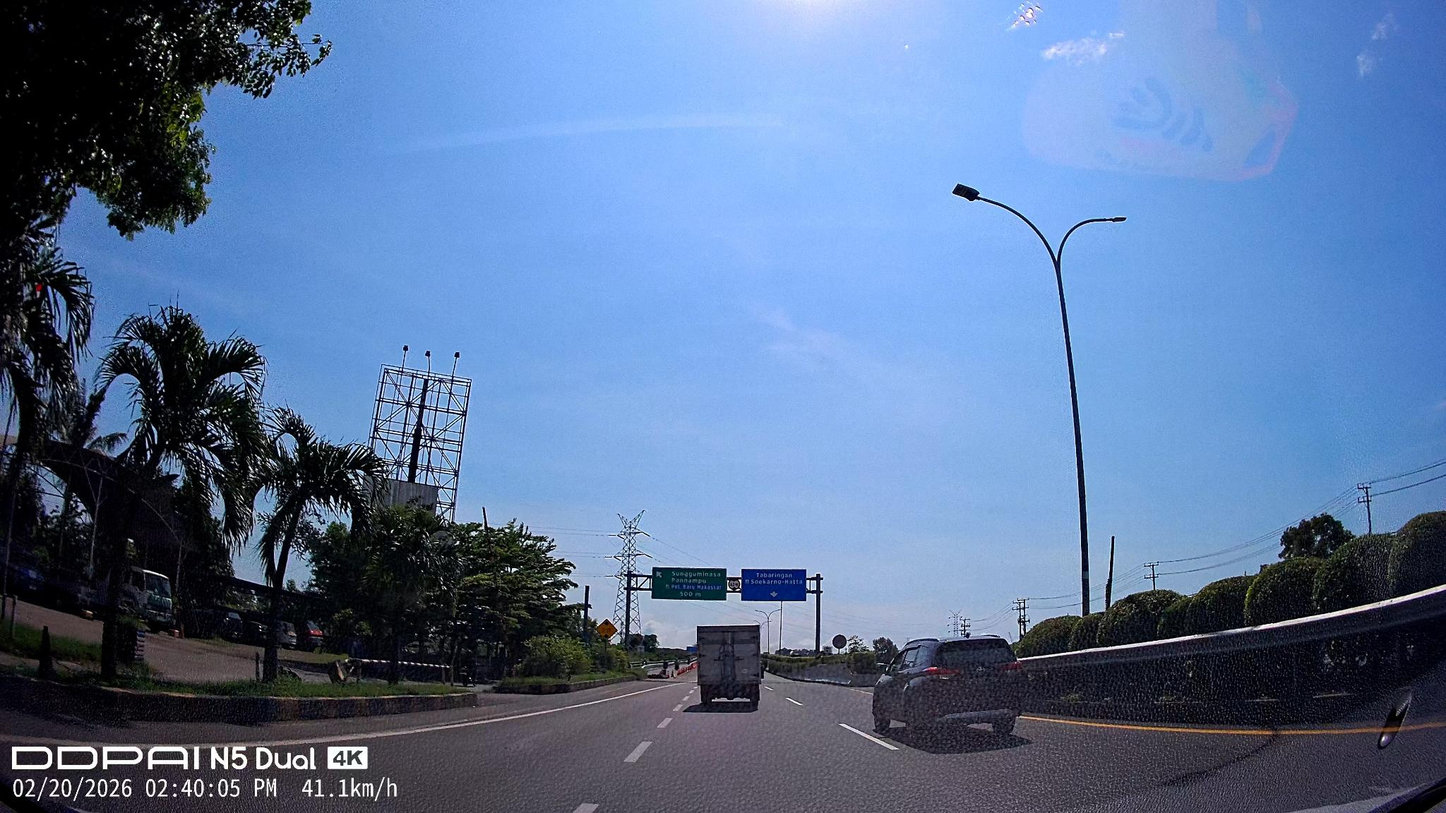rambu_teks: (651, 567, 726, 601), (741, 569, 807, 602)
